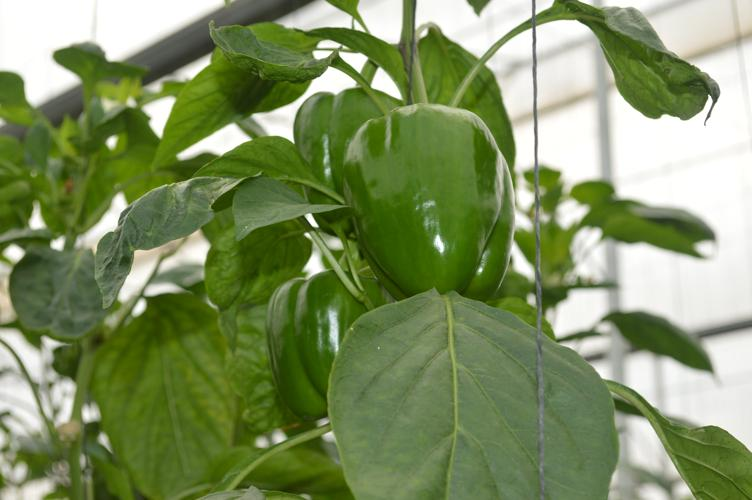BellPepper: (345, 104, 514, 296), (263, 270, 376, 413), (294, 92, 396, 226)
